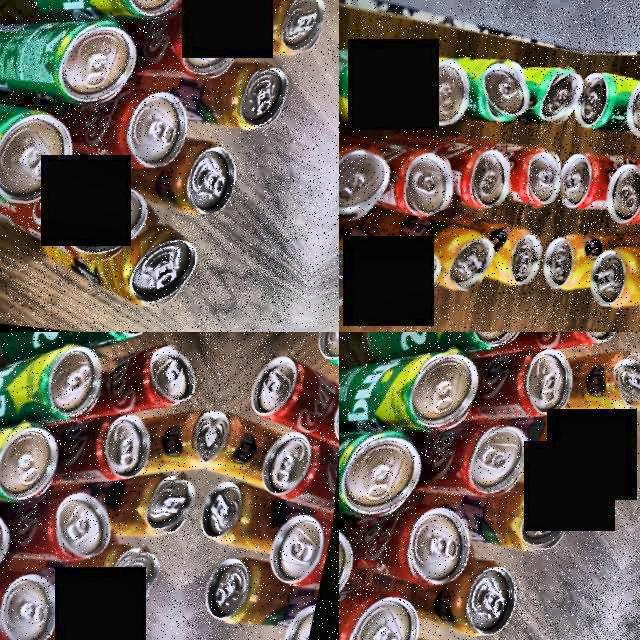Cans: (10, 11, 139, 116), (352, 349, 492, 440), (0, 334, 112, 431), (334, 420, 427, 526), (398, 478, 477, 601), (485, 328, 580, 428), (84, 224, 187, 316), (0, 105, 65, 228), (454, 545, 538, 640), (143, 404, 237, 488), (260, 429, 337, 520), (521, 45, 587, 151), (438, 420, 512, 513), (0, 426, 70, 522), (174, 115, 233, 228), (186, 567, 277, 633), (106, 347, 186, 422), (108, 90, 182, 171), (250, 358, 332, 431), (326, 138, 398, 220), (422, 46, 486, 136), (472, 40, 536, 130), (0, 561, 72, 640), (192, 482, 272, 548), (260, 515, 328, 591), (84, 424, 162, 490), (333, 585, 428, 639), (478, 226, 542, 306), (395, 144, 453, 232), (434, 237, 502, 311), (111, 473, 187, 538), (468, 130, 519, 224), (47, 489, 112, 562), (542, 227, 591, 321), (577, 52, 629, 137), (509, 146, 559, 230), (564, 142, 614, 225), (591, 234, 640, 312), (580, 360, 640, 423), (270, 0, 328, 63), (602, 142, 640, 235)
